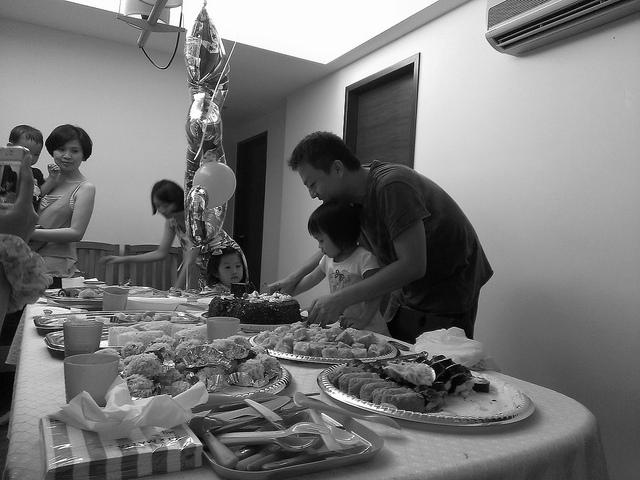cup: (47, 344, 131, 419), (58, 313, 109, 362), (203, 314, 250, 349), (100, 284, 132, 320)
